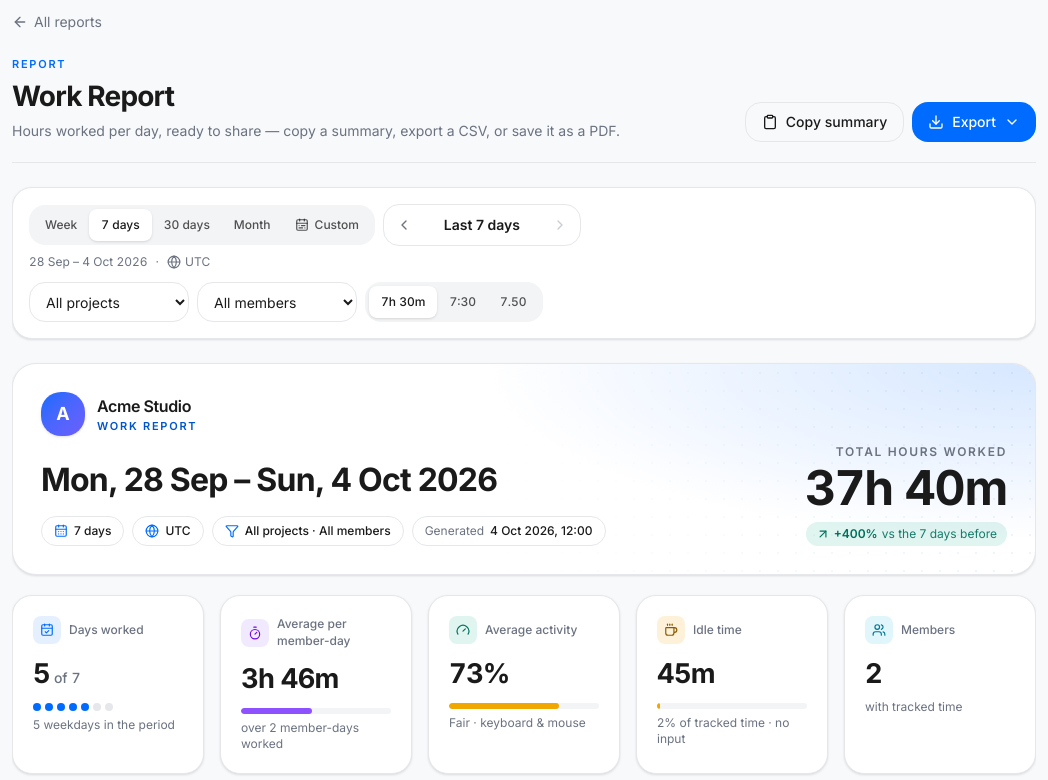
Work Report (live) › formats hours the way the viewer chooses, totals adding up the rounded rows, and remembers it
Click the button "7:30" at (463,302), box [437,286,488,318]
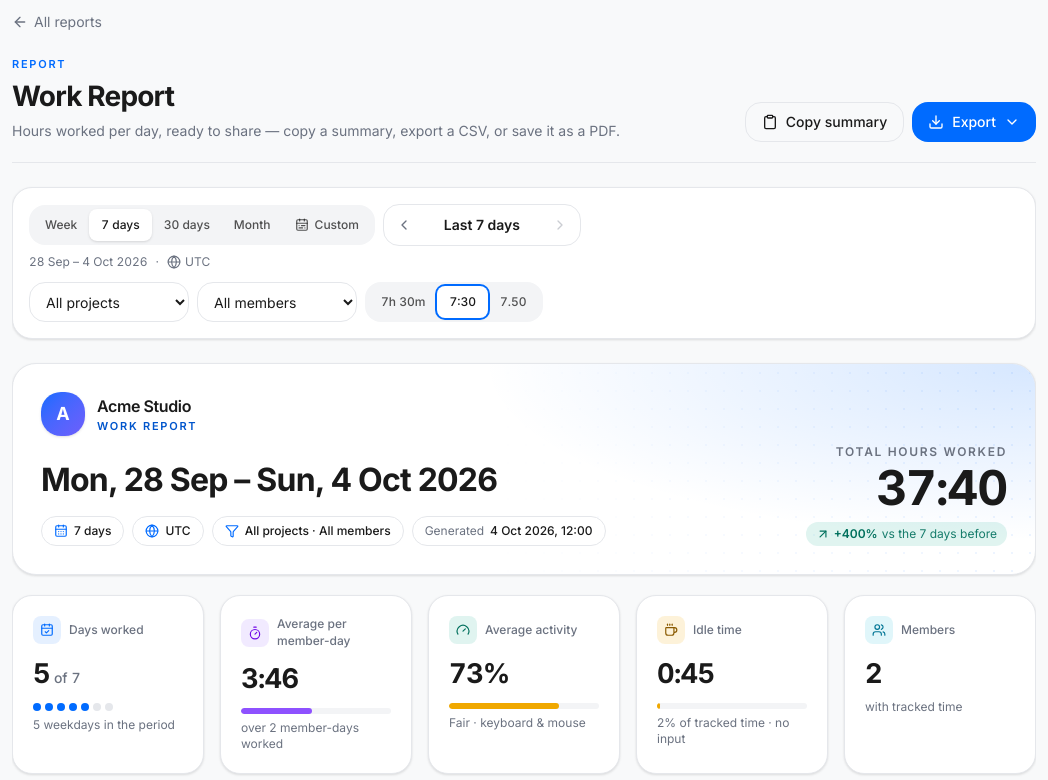
Click the button "7.50" at (513,302), box [488,286,539,318]
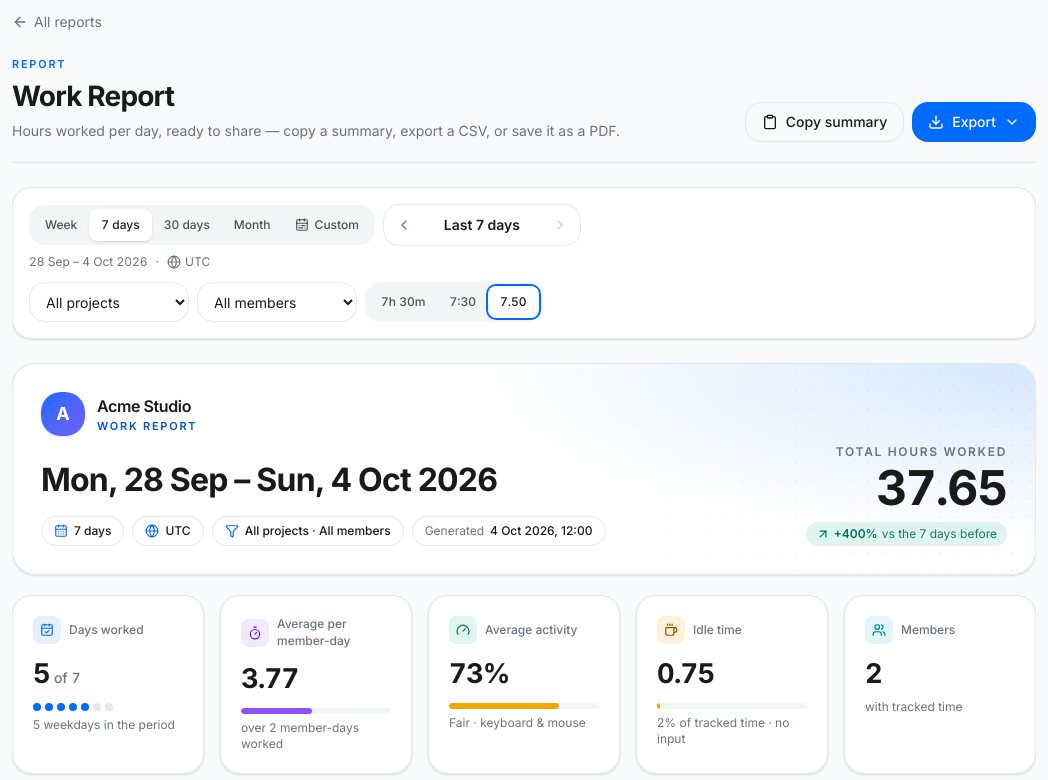
Now the text "37.65" is shown, box [876,458,1007,517]
